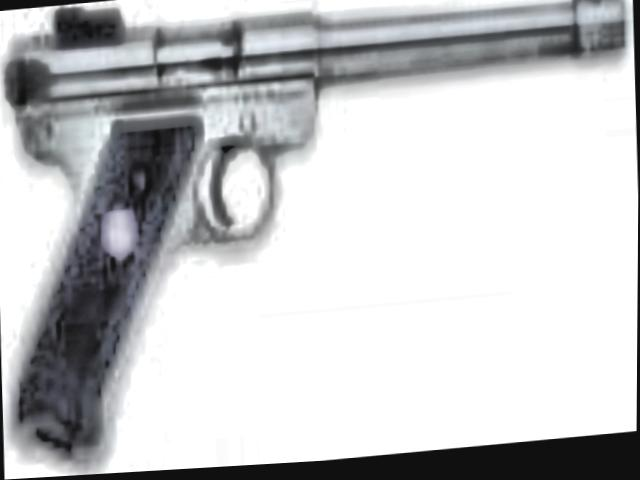pistol: (0, 0, 631, 470)
